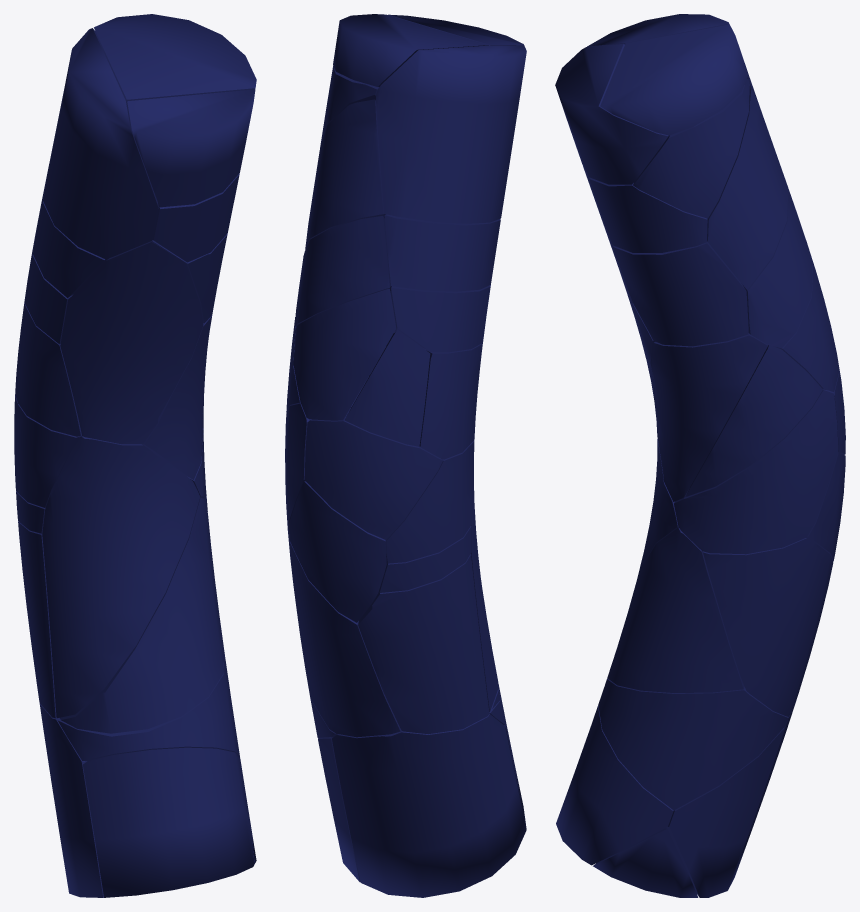
The model's file is VolumeShredded2.fbx.
3 renders of one model, left to right at view 1: azimuth 30°, elevation 25°; view 2: azimuth 150°, elevation 25°; view 3: azimuth 270°, elevation 25°, orthographic.
Visible parts, largest first — view 1: Volume2_cell.019, Volume2_cell.023, Volume2_cell.027, Volume2_cell.013, Volume2_cell.026, Volume2_cell.022, Volume2_cell.016, Volume2_cell.028, Volume2_cell.021, Volume2_cell.010, Volume2_cell.018, Volume2_cell.029 (+6 smaller); view 2: Volume2_cell.028, Volume2_cell.013, Volume2_cell.012, Volume2_cell.020, Volume2_cell.005, Volume2_cell.006, Volume2_cell.004, Volume2_cell.017, Volume2_cell.008, Volume2_cell.003, Volume2_cell.014, Volume2_cell.009 (+11 smaller); view 3: Volume2_cell.021, Volume2_cell.005, Volume2_cell.026, Volume2_cell.011, Volume2_cell.016, Volume2_cell.018, Volume2_cell.025, Volume2_cell.023, Volume2_cell.008, Volume2_cell.022, Volume2_cell.015, Volume2_cell (+10 smaller).
Boxes of the visible parts, <box> form: Volume2_cell.019: <box>42,436,199,718</box>; Volume2_cell.023: <box>83,747,254,897</box>; Volume2_cell.027: <box>60,241,203,444</box>; Volume2_cell.013: <box>43,28,158,259</box>; Volume2_cell.026: <box>60,497,224,733</box>; Volume2_cell.022: <box>127,88,255,207</box>; Volume2_cell.016: <box>94,14,256,99</box>; Volume2_cell.028: <box>39,703,103,897</box>; Volume2_cell.021: <box>57,652,239,761</box>; Volume2_cell.010: <box>15,300,81,436</box>; Volume2_cell.018: <box>142,315,212,479</box>; Volume2_cell.029: <box>152,173,239,262</box>; Volume2_cell.028: <box>332,714,526,897</box>; Volume2_cell.013: <box>376,45,526,223</box>; Volume2_cell.012: <box>358,554,489,734</box>; Volume2_cell.020: <box>304,408,442,539</box>; Volume2_cell.005: <box>287,524,401,737</box>; Volume2_cell.006: <box>293,288,396,420</box>; Volume2_cell.004: <box>288,481,386,622</box>; Volume2_cell.017: <box>384,214,500,291</box>; Volume2_cell.008: <box>305,99,385,249</box>; Volume2_cell.003: <box>295,216,391,326</box>; Volume2_cell.014: <box>344,330,430,446</box>; Volume2_cell.009: <box>385,440,474,563</box>; Volume2_cell.021: <box>598,678,788,810</box>; Volume2_cell.005: <box>703,538,833,716</box>; Volume2_cell.026: <box>607,527,744,692</box>; Volume2_cell.011: <box>674,390,838,554</box>; Volume2_cell.016: <box>600,24,747,135</box>; Volume2_cell.018: <box>651,333,767,501</box>; Volume2_cell.025: <box>608,237,748,346</box>; Volume2_cell.023: <box>556,705,673,865</box>; Volume2_cell.008: <box>707,88,788,289</box>; Volume2_cell.022: <box>555,44,668,184</box>; Volume2_cell.015: <box>685,345,822,496</box>; Volume2_cell: <box>665,727,784,897</box>.
Bounding box in the file's own units: 32.2 × 159 × 49.68.
